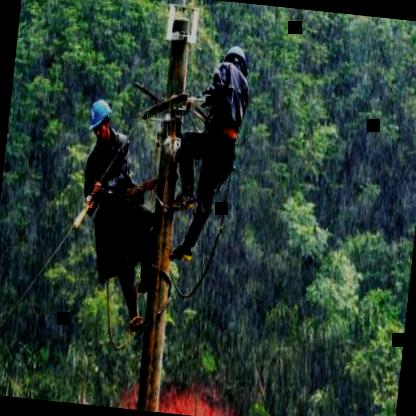helmet: (85, 96, 114, 141), (219, 40, 251, 78)
